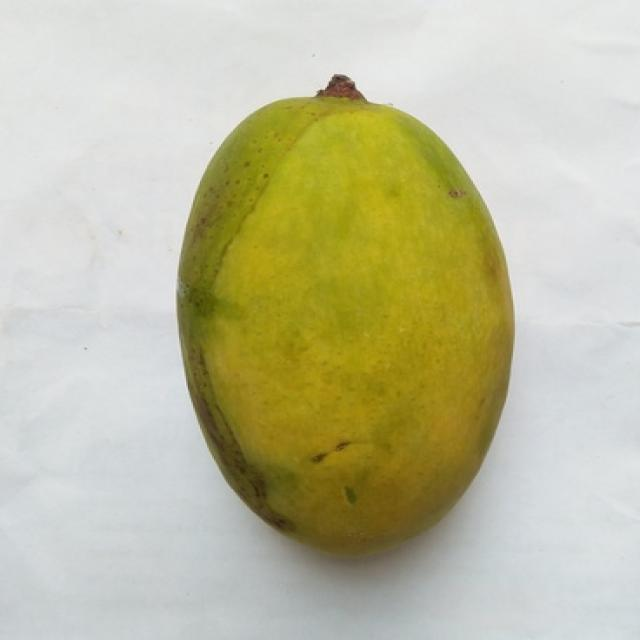Mango: (177, 76, 513, 550)
